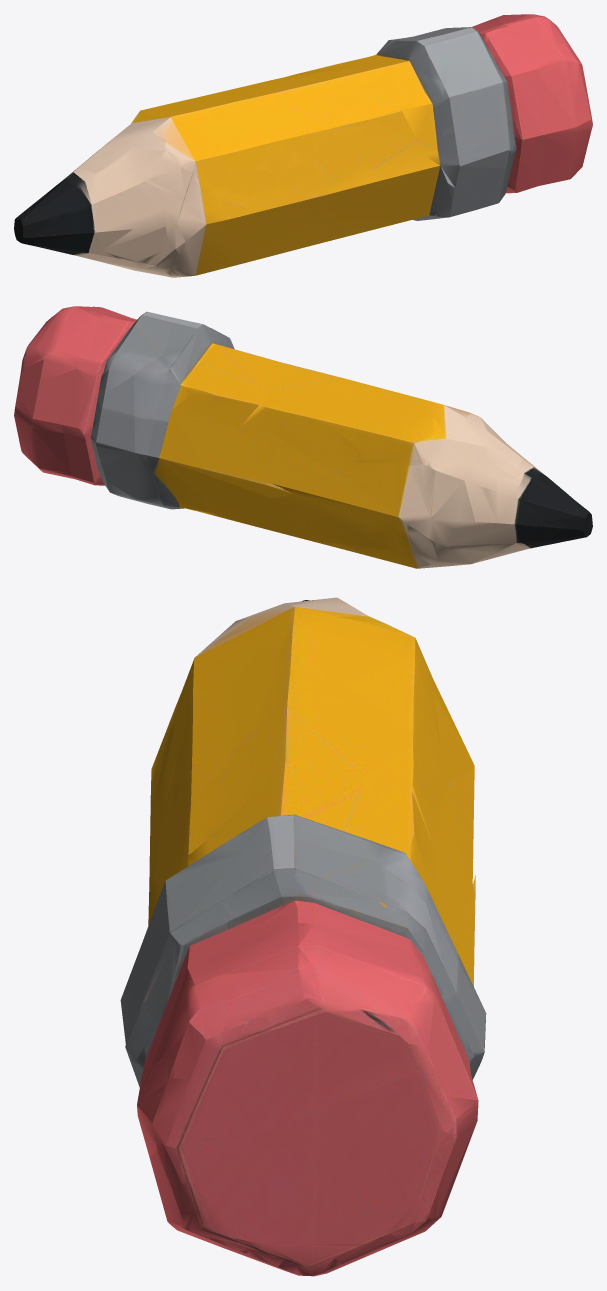
Rendered from pencil.glb.
3 renders of one model, top to bottom at view 1: azimuth 30°, elevation 25°; view 2: azimuth 150°, elevation 25°; view 3: azimuth 270°, elevation 25°, orthographic. The views are drawn at different scales.
Visible parts, largest first — view 1: Mesh_0; view 2: Mesh_0; view 3: Mesh_0.
Boxes of the visible parts, bbox=[...] form: Mesh_0: bbox=[14, 14, 592, 277]; Mesh_0: bbox=[14, 306, 592, 568]; Mesh_0: bbox=[120, 597, 486, 1276].
Bounding box in the file's own units: 2 × 0.6333 × 0.5864.
1 material, 1 textured.
